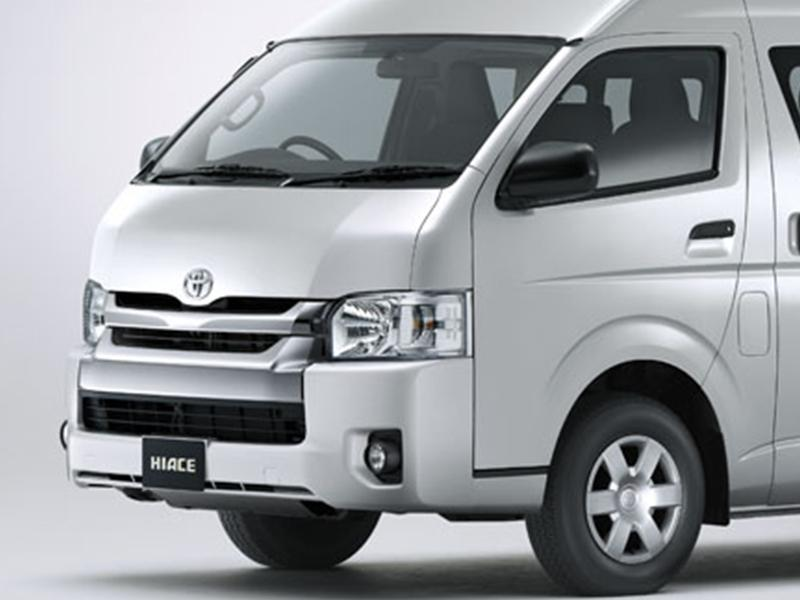car: (60, 0, 800, 593)
